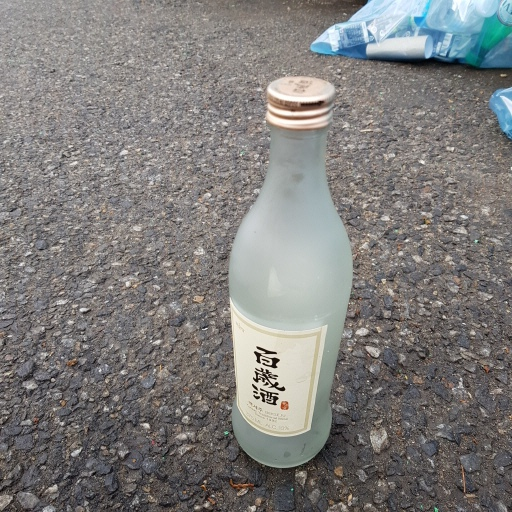Glass_0: (223, 76, 354, 472)
